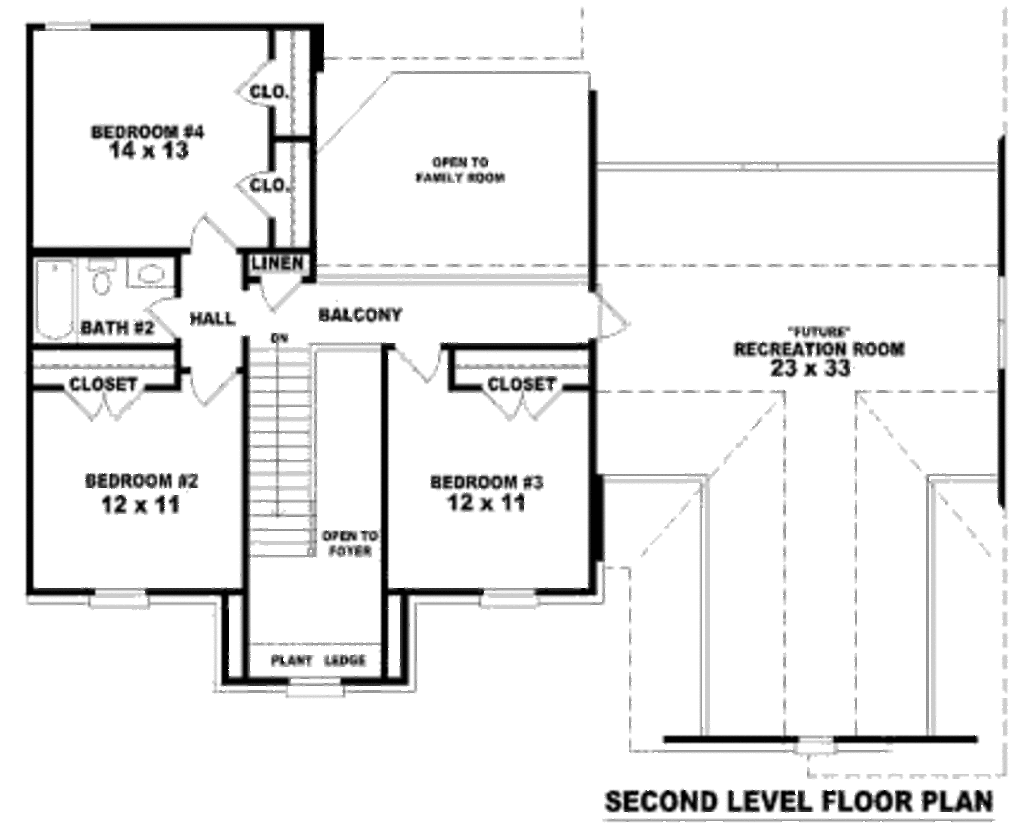door: (60, 383, 151, 427), (481, 383, 566, 423), (234, 44, 277, 108), (141, 294, 193, 342), (184, 213, 243, 255), (234, 169, 282, 218), (389, 340, 442, 384), (186, 367, 237, 411), (253, 270, 305, 309), (592, 290, 627, 343)
large_sink: (77, 255, 118, 296)
small_sink: (121, 249, 173, 289)
stairs: (235, 337, 332, 571)
tub: (21, 255, 79, 349)
window: (465, 582, 540, 618), (990, 274, 1016, 369), (84, 584, 159, 612), (282, 676, 347, 702)
